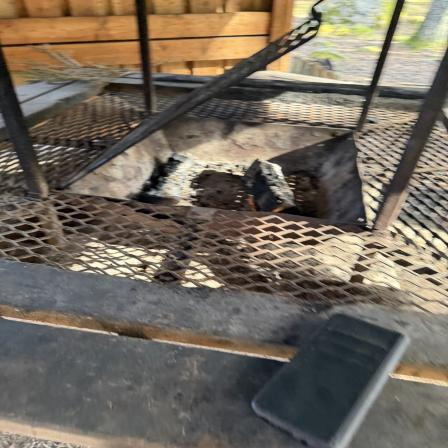phone: (251, 311, 411, 448)
